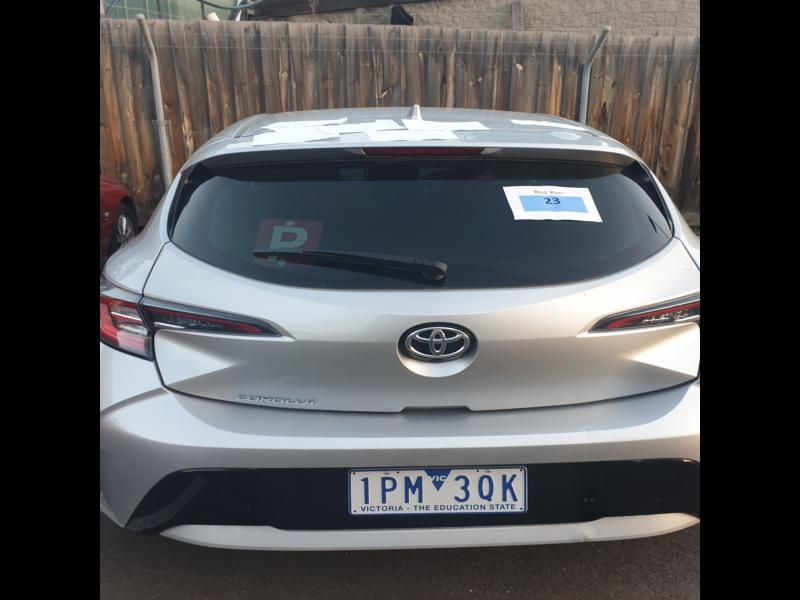BusRun: (518, 193, 591, 215)
PlateNo: (346, 467, 525, 514)
